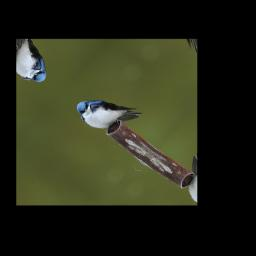Swallow: (70, 80, 144, 145)
